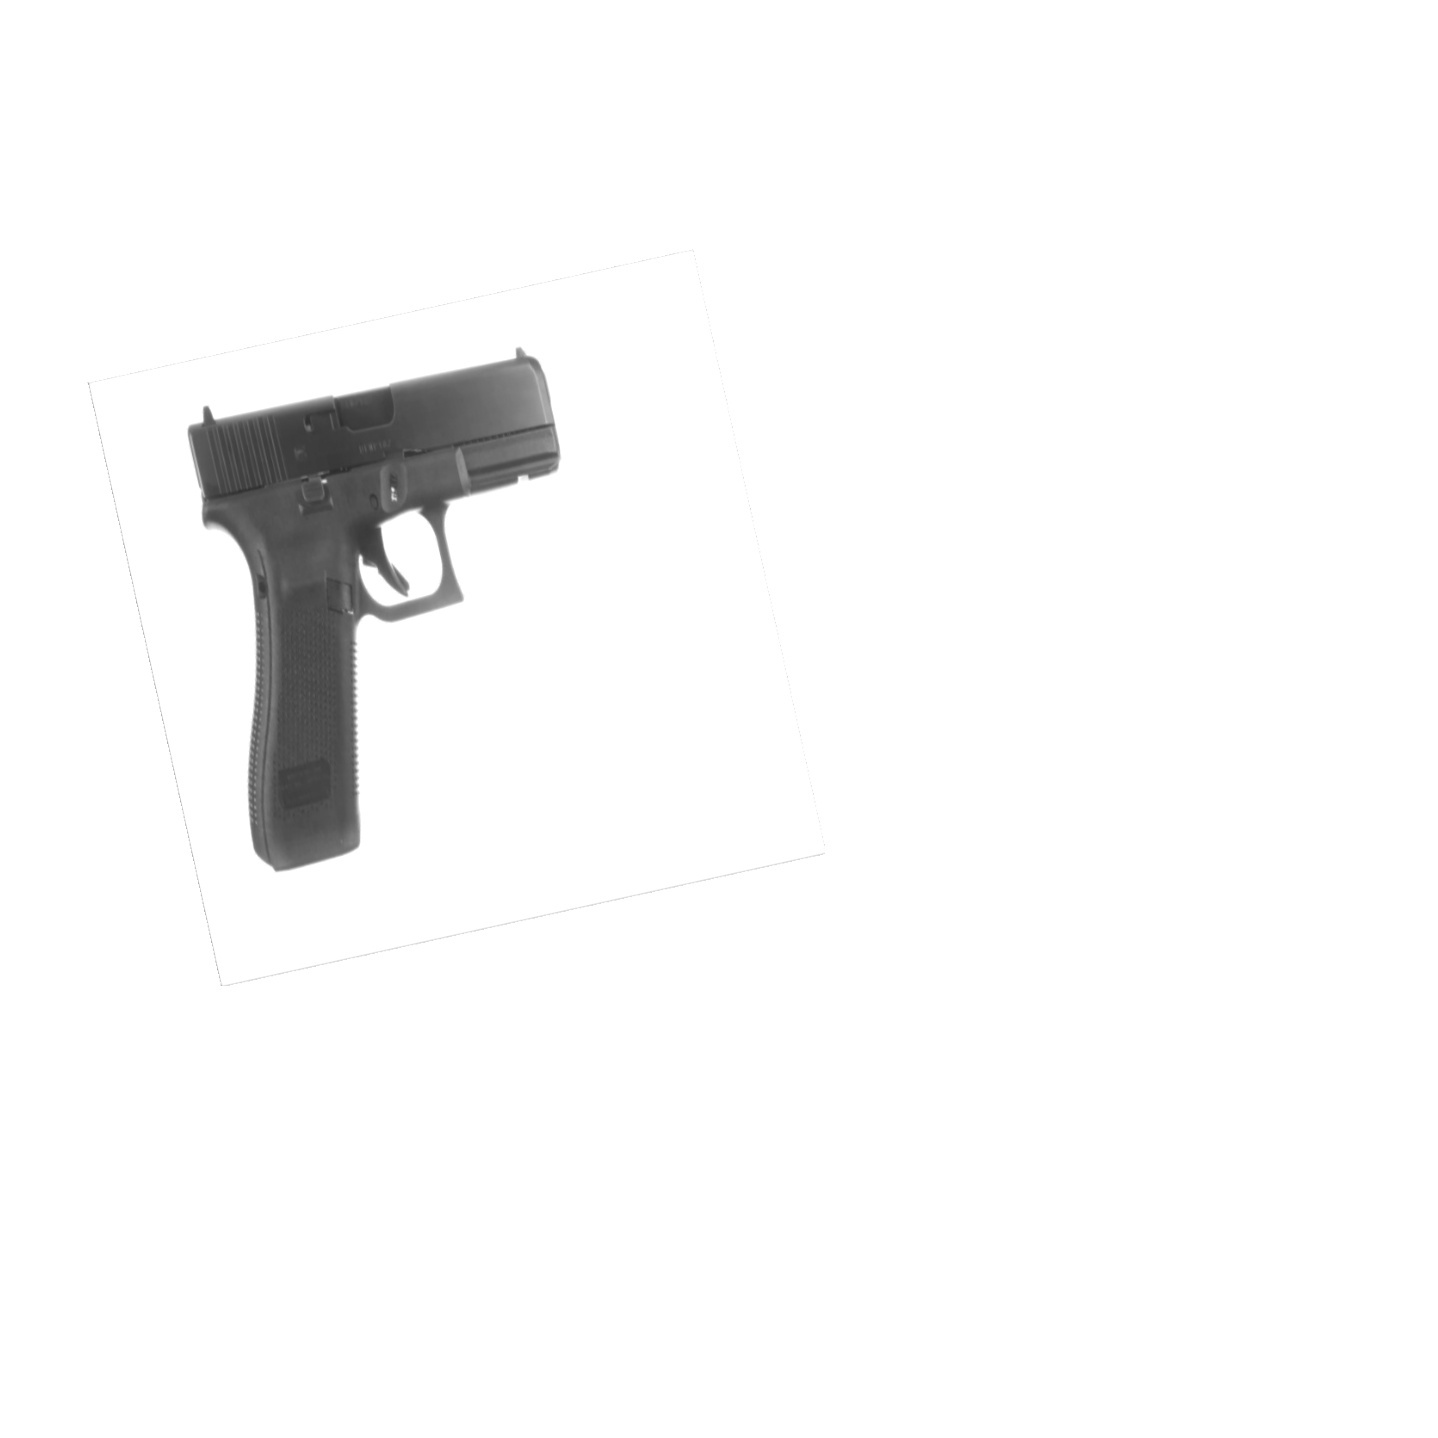gun: (180, 342, 583, 874)
